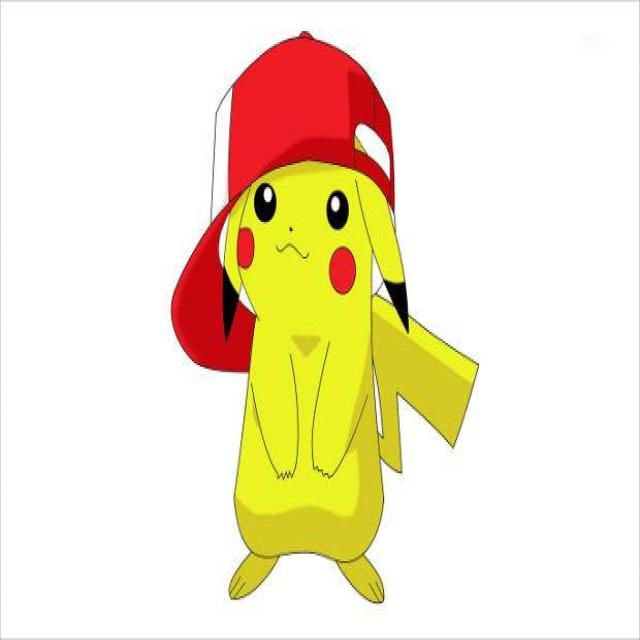pikachu: (221, 166, 478, 602)
